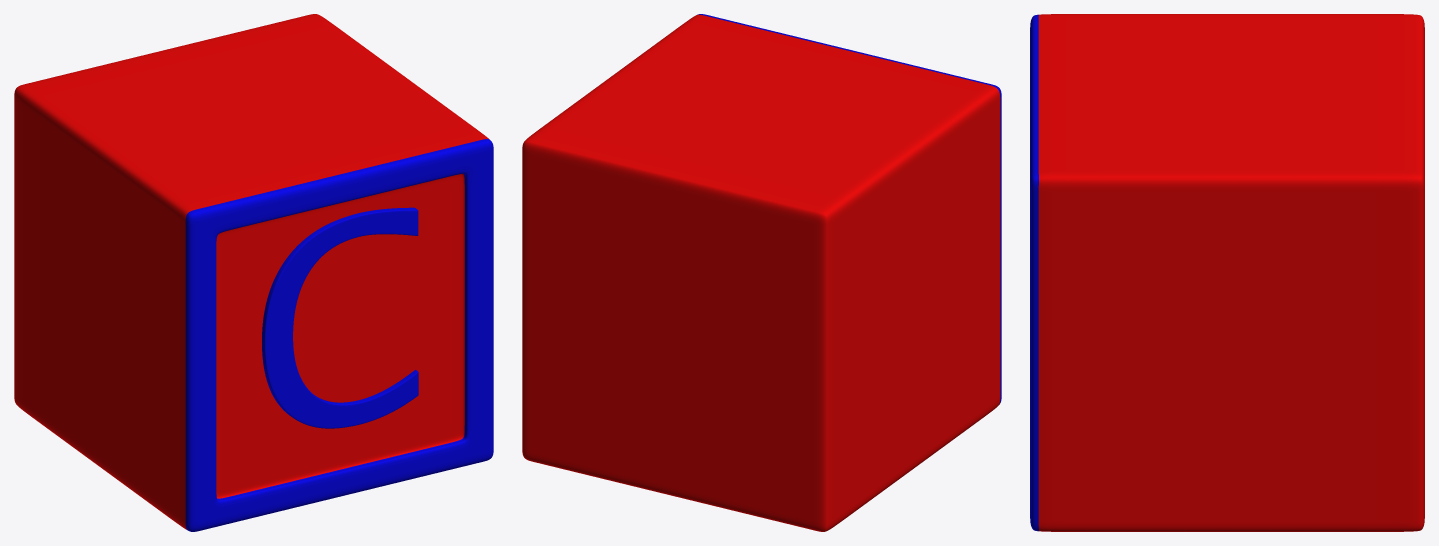
Rendered from Letter_Cubes_C_High.fbx.
The picture shows the model from 3 angles, left to right: view 1: azimuth 30°, elevation 25°; view 2: azimuth 150°, elevation 25°; view 3: azimuth 270°, elevation 25°; orthographic projection. The views are drawn at different scales.
Parts seen in each view (by area): view 1: Cube_high, C_high; view 2: Cube_high; view 3: Cube_high.
Part boxes in pixels (box(x1,y1,x2,y2)): Cube_high: box(14, 14, 493, 531); C_high: box(262, 207, 418, 428); Cube_high: box(522, 14, 1001, 531); Cube_high: box(1030, 14, 1424, 531).
Bounding box in the file's own units: 80 × 80 × 80.
